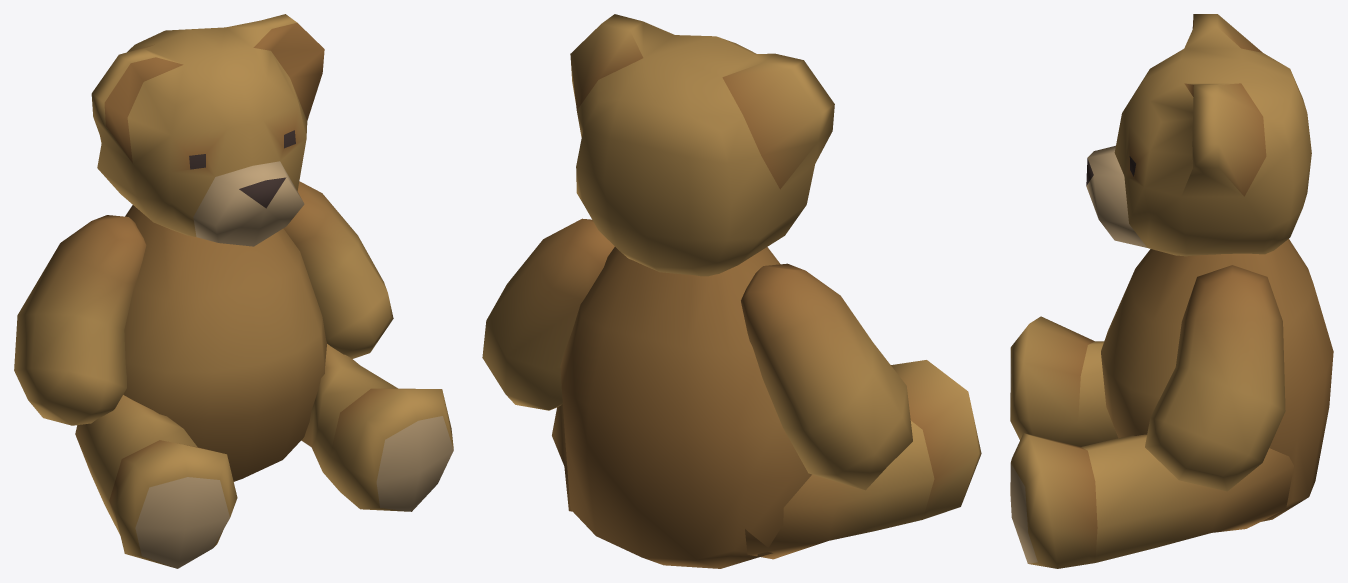
The model's file is human-toys-teddy-bear_v1.glb.
The picture shows the model from 3 angles, left to right: view 1: azimuth 30°, elevation 25°; view 2: azimuth 150°, elevation 25°; view 3: azimuth 270°, elevation 25°; orthographic projection. The views are drawn at different scales.
Visible parts, largest first — view 1: Teddy Bear; view 2: Teddy Bear; view 3: Teddy Bear.
Part boxes in pixels (x1=…): Teddy Bear: x1=14, y1=14, x2=453, y2=568; Teddy Bear: x1=482, y1=14, x2=981, y2=568; Teddy Bear: x1=1010, y1=14, x2=1333, y2=568.
Bounding box in the file's own units: 0.2912 × 0.35 × 0.2253.
